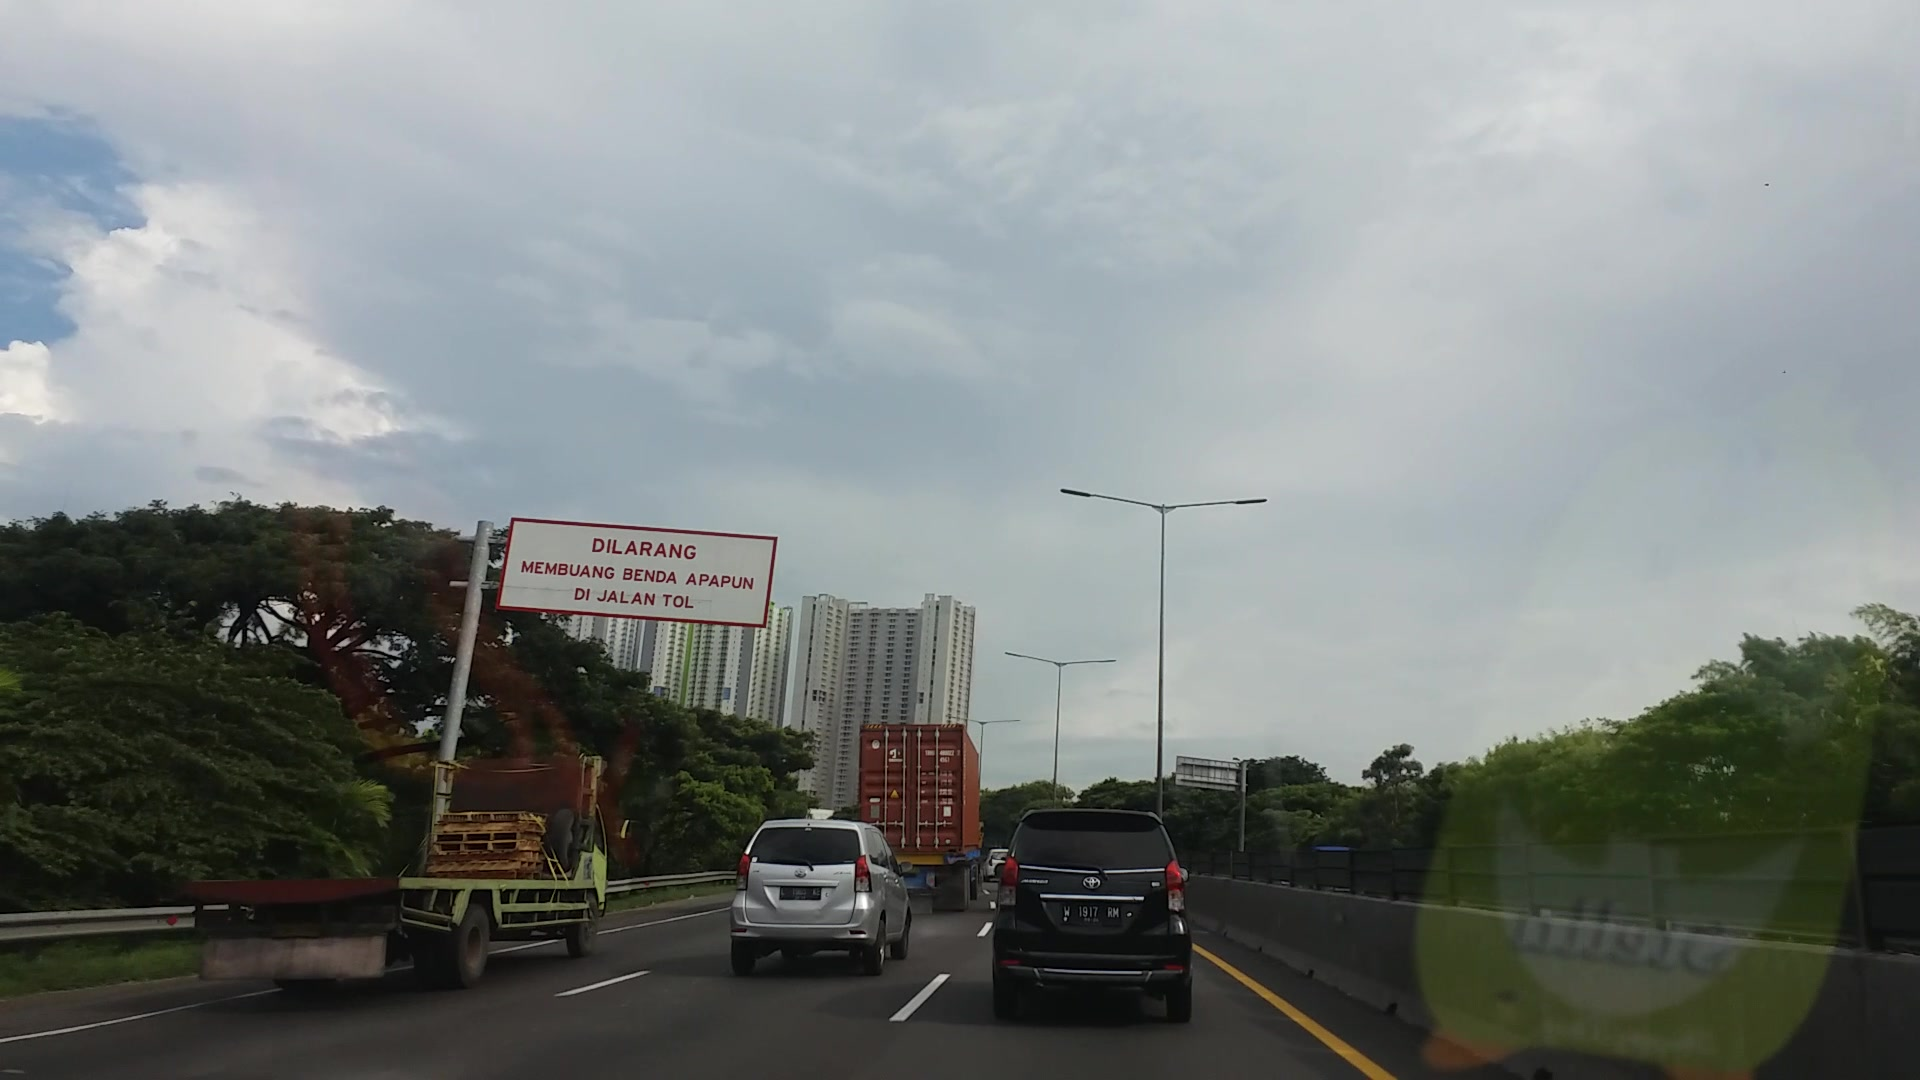plate_positive: (1062, 901, 1124, 928)
